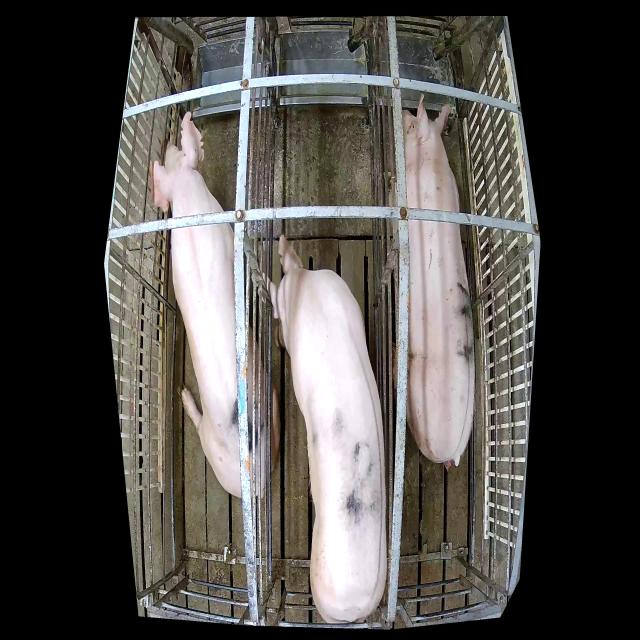pig: (251, 235, 387, 623), (149, 112, 280, 498), (402, 95, 475, 468)
